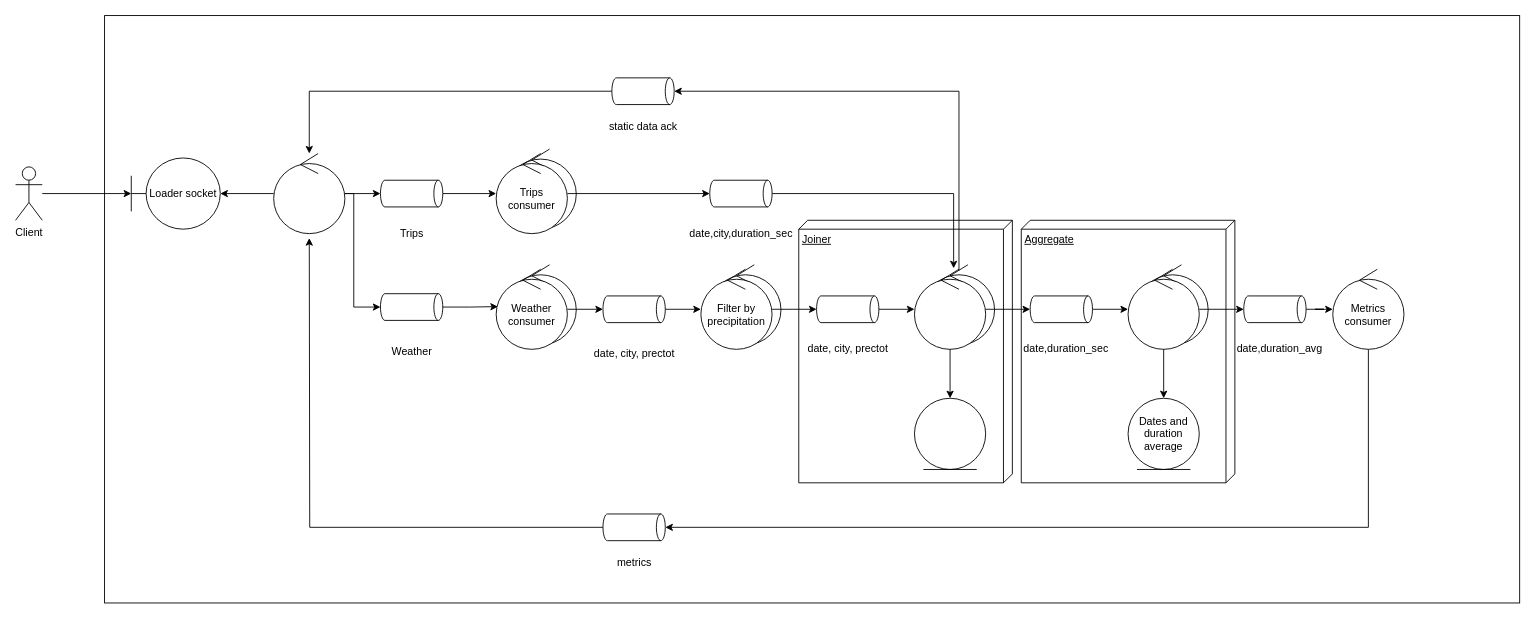
Some shapes in this 1535 by 619 pixel diagram are drawn without their labels. Each missing label, with the centre of its shape:
"Aggregate by duration" goes at (x=1163, y=308).
"Joiner by date" goes at (x=950, y=308).
"Loader" goes at (x=309, y=193).
"Weather dates" goes at (x=950, y=433).
